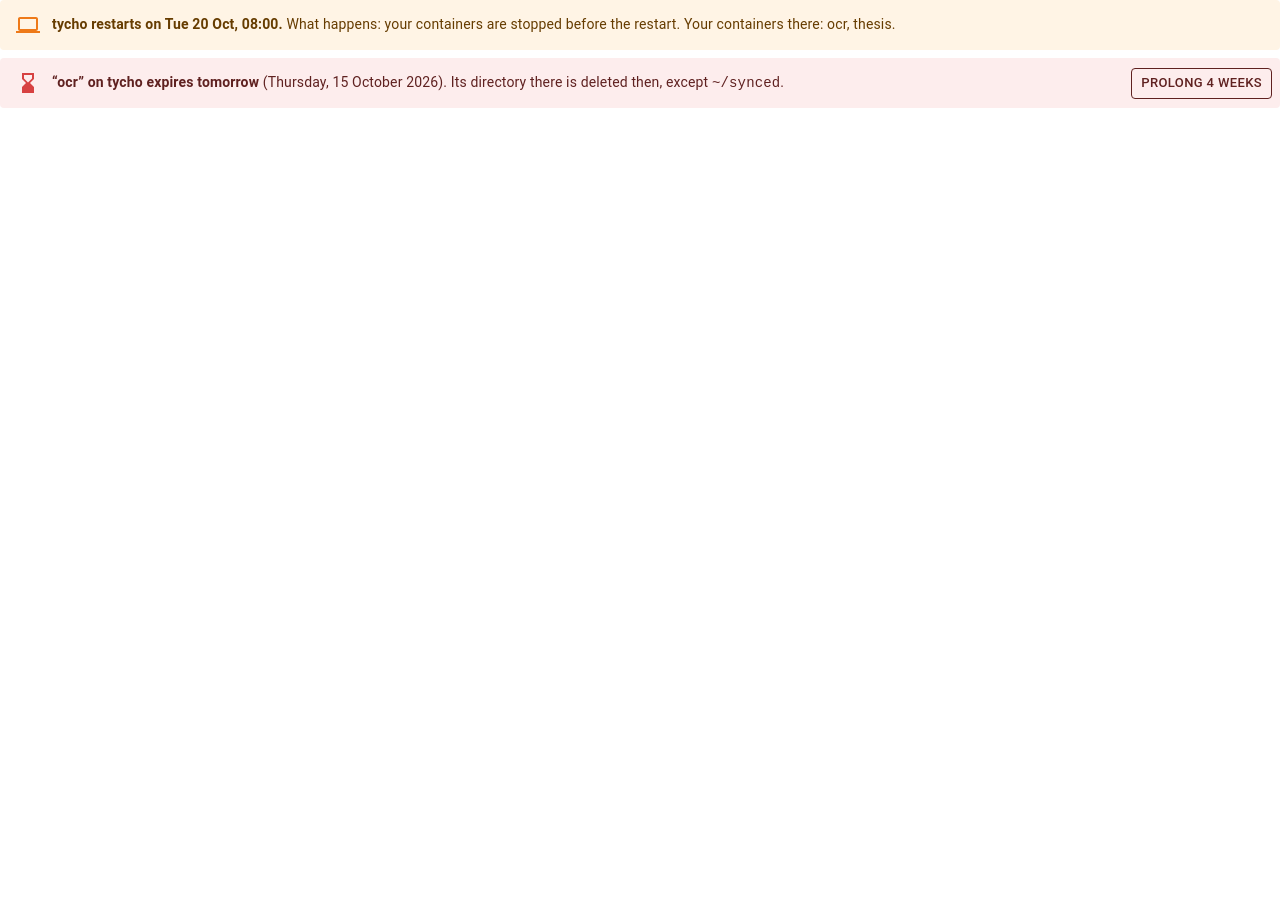
it: prolonging from a notice asks first, then reports back
The width and height of the screenshot is (1280, 900).
Click the button "Prolong 4 weeks": (1202, 83) [1131,68,1272,99]
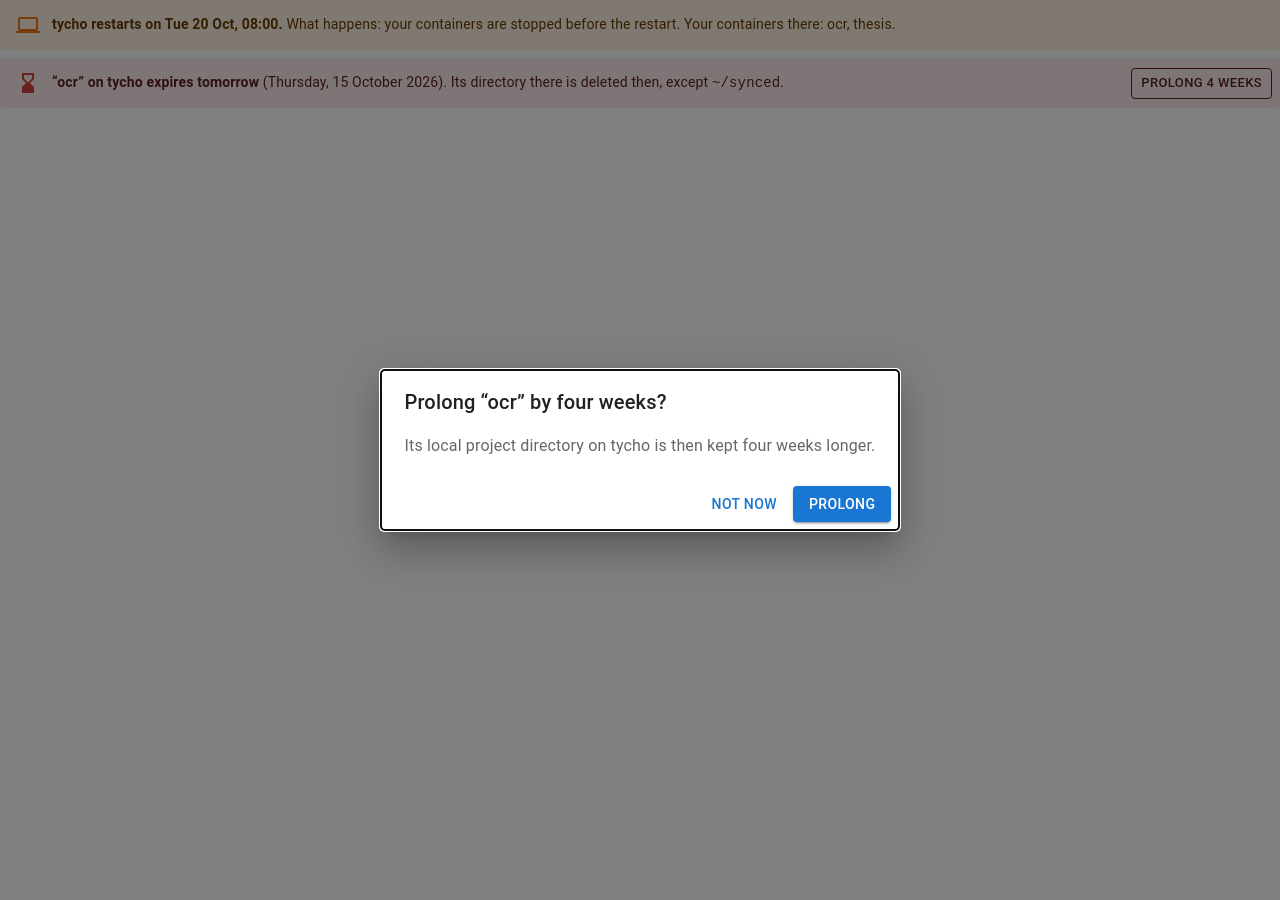
Check: the element with test id "prolong-dialog" shows "Prolong “ocr” by four weeks?"
Click the button with test id "prolong-confirm": (842, 504) [793,486,891,522]
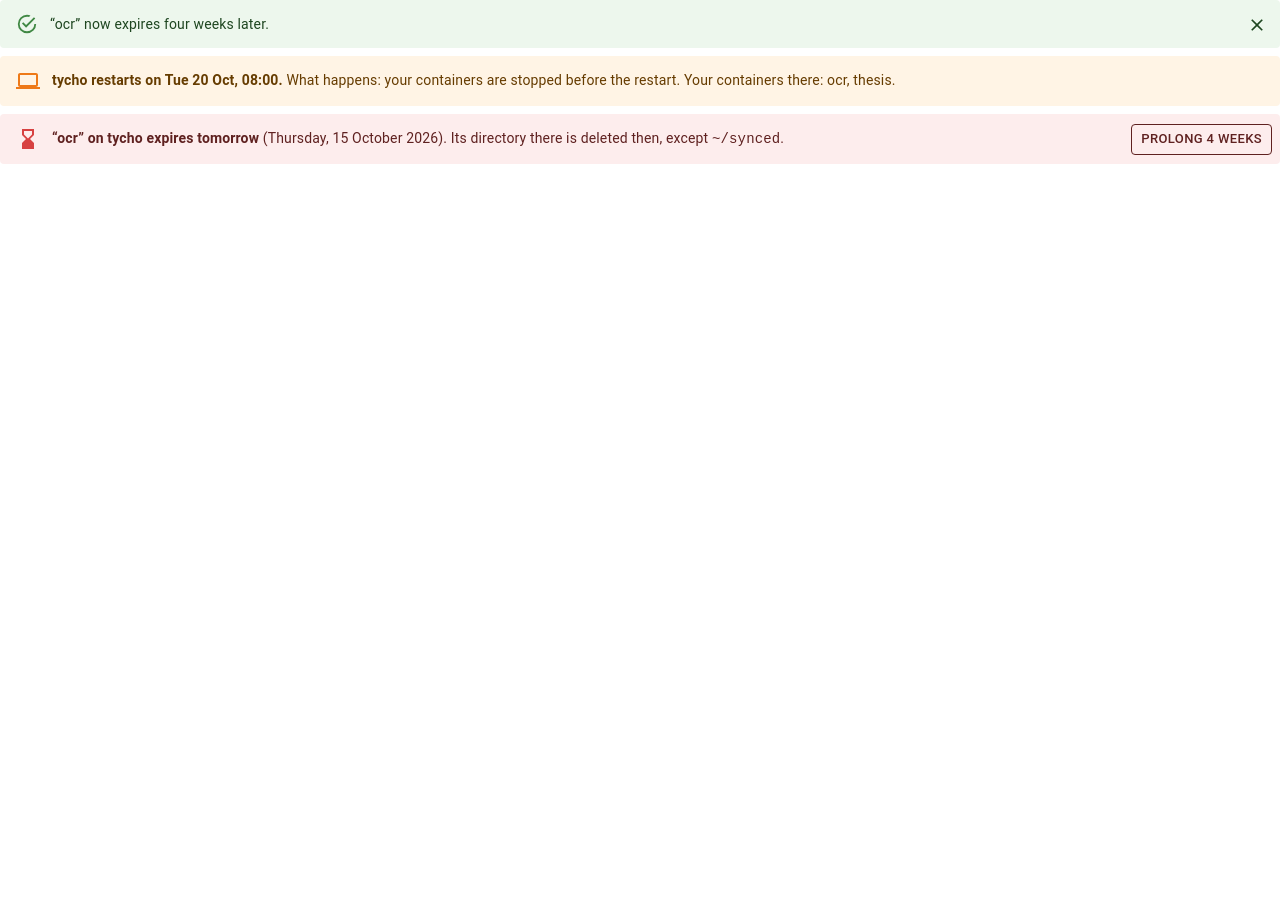
Check: the message with test id "notice-result" reads "“ocr” now expires four weeks later.", box [50,16,269,32]
